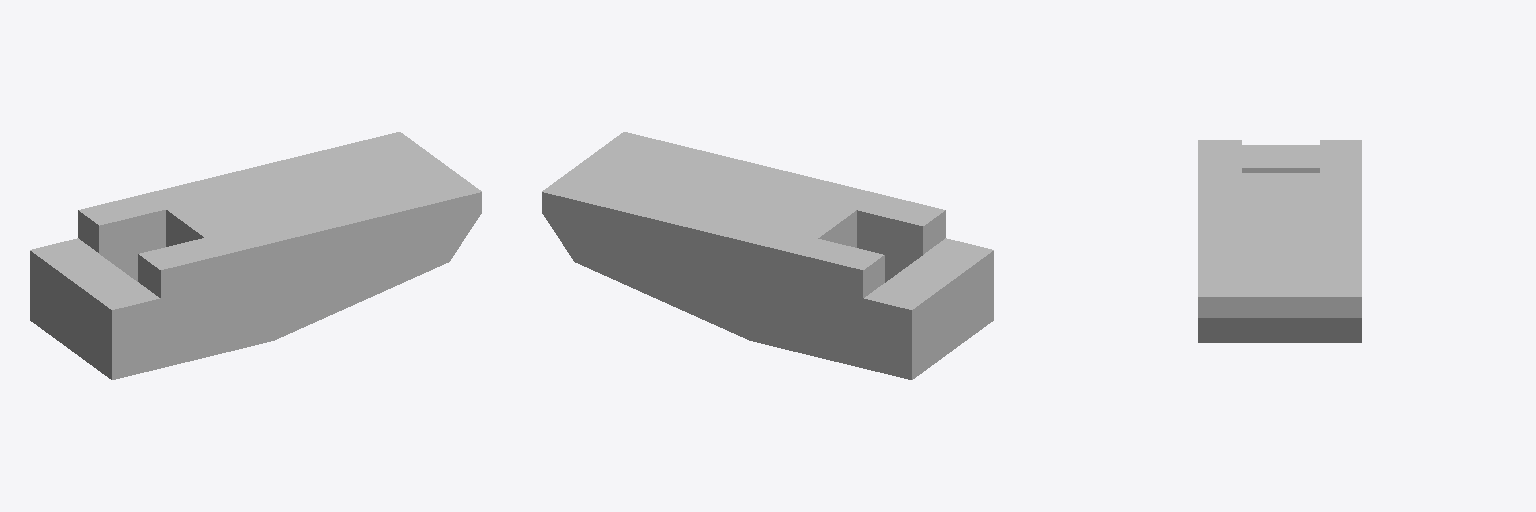
File: finger_r.obj
3 views of the same model, side by side, from view 1: azimuth 30°, elevation 25°; view 2: azimuth 150°, elevation 25°; view 3: azimuth 270°, elevation 25° (orthographic).
Size of the model in its own units: 0.0553 by 0.014 by 0.0213.